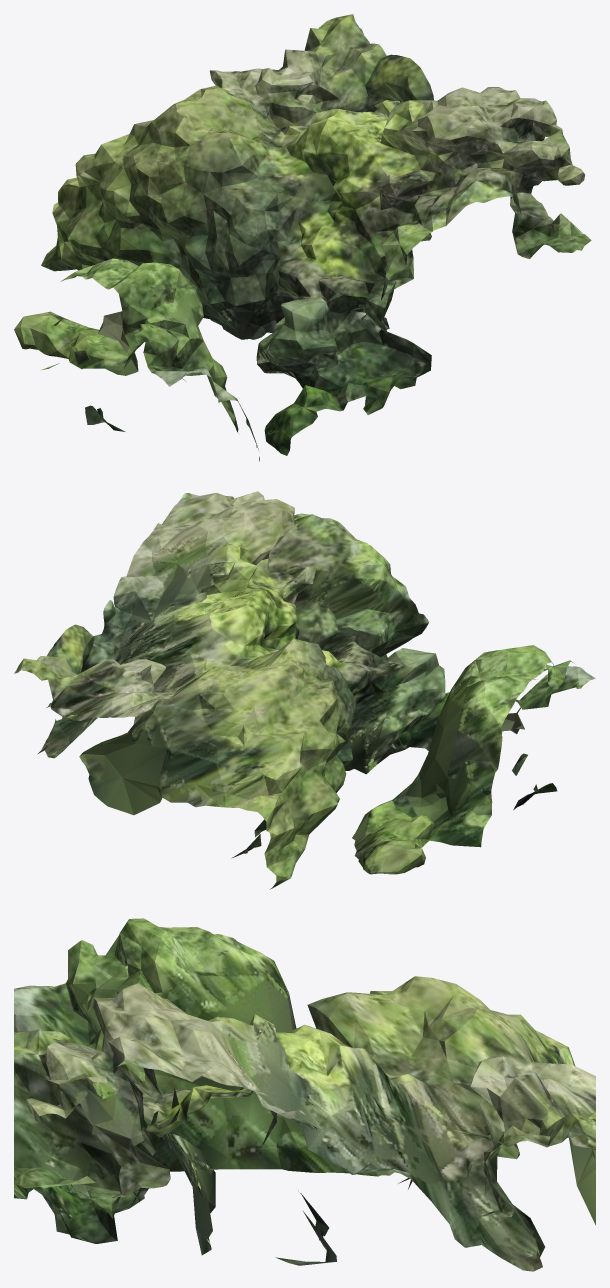
3 renders of one model, top to bottom at view 1: azimuth 30°, elevation 25°; view 2: azimuth 150°, elevation 25°; view 3: azimuth 270°, elevation 25°, orthographic. The views are drawn at different scales.
Bounding box in the file's own units: 26.11 × 14.93 × 26.11.
Materials: 5 (5 with a texture image).
